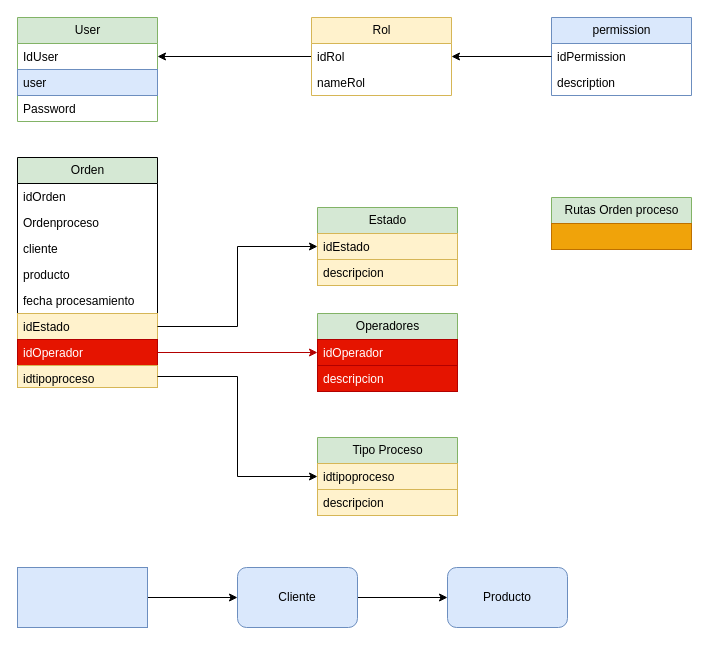
Some shapes in this 709 by 645 pixel diagram are drawn without their labels. Each missing label, with the centre of its shape:
Archivo de configuración JSON: the point at 82,597
vacia porque ya esta: the point at 621,236
